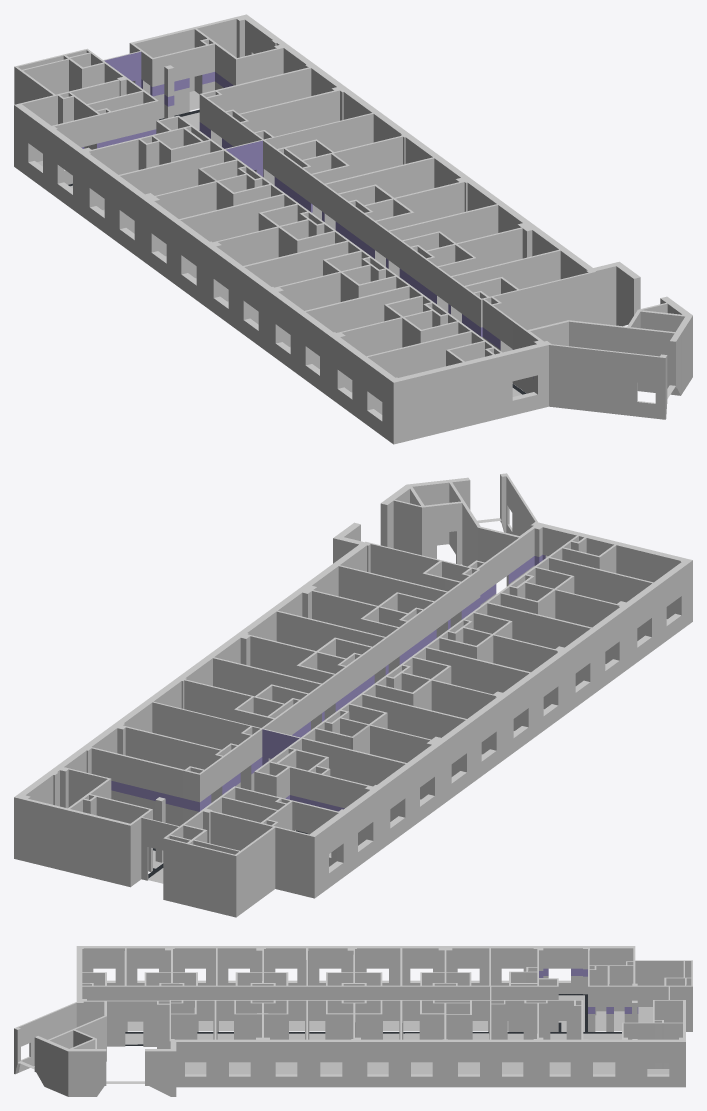
The model's file is Palata3_3dFloor.fbx.
The picture shows the model from 3 angles, top to bottom: view 1: azimuth 30°, elevation 25°; view 2: azimuth 150°, elevation 25°; view 3: azimuth 270°, elevation 25°; orthographic projection. The views are drawn at different scales.
Parts seen in each view (by area): view 1: Plane; view 2: Plane; view 3: Plane.
Part boxes in pixels (x1,y1,x2,y2): Plane: (14,14,692,444); Plane: (14,473,692,917); Plane: (14,946,692,1096).
Size of the model in its own units: 2093 by 421 by 5699.
